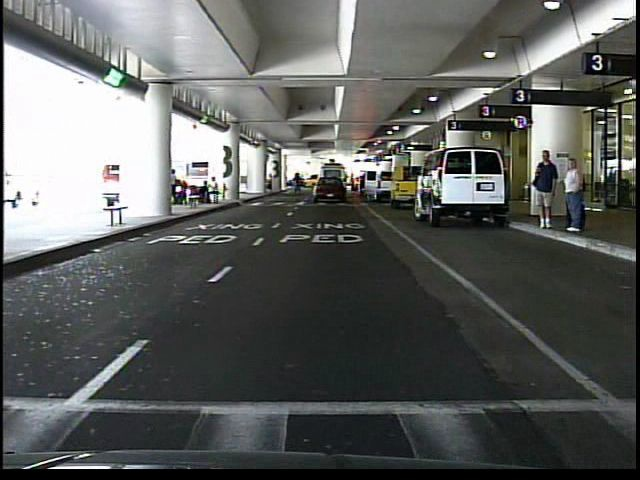person: (530, 146, 559, 233), (559, 153, 587, 237), (347, 168, 360, 197), (266, 169, 277, 193)
